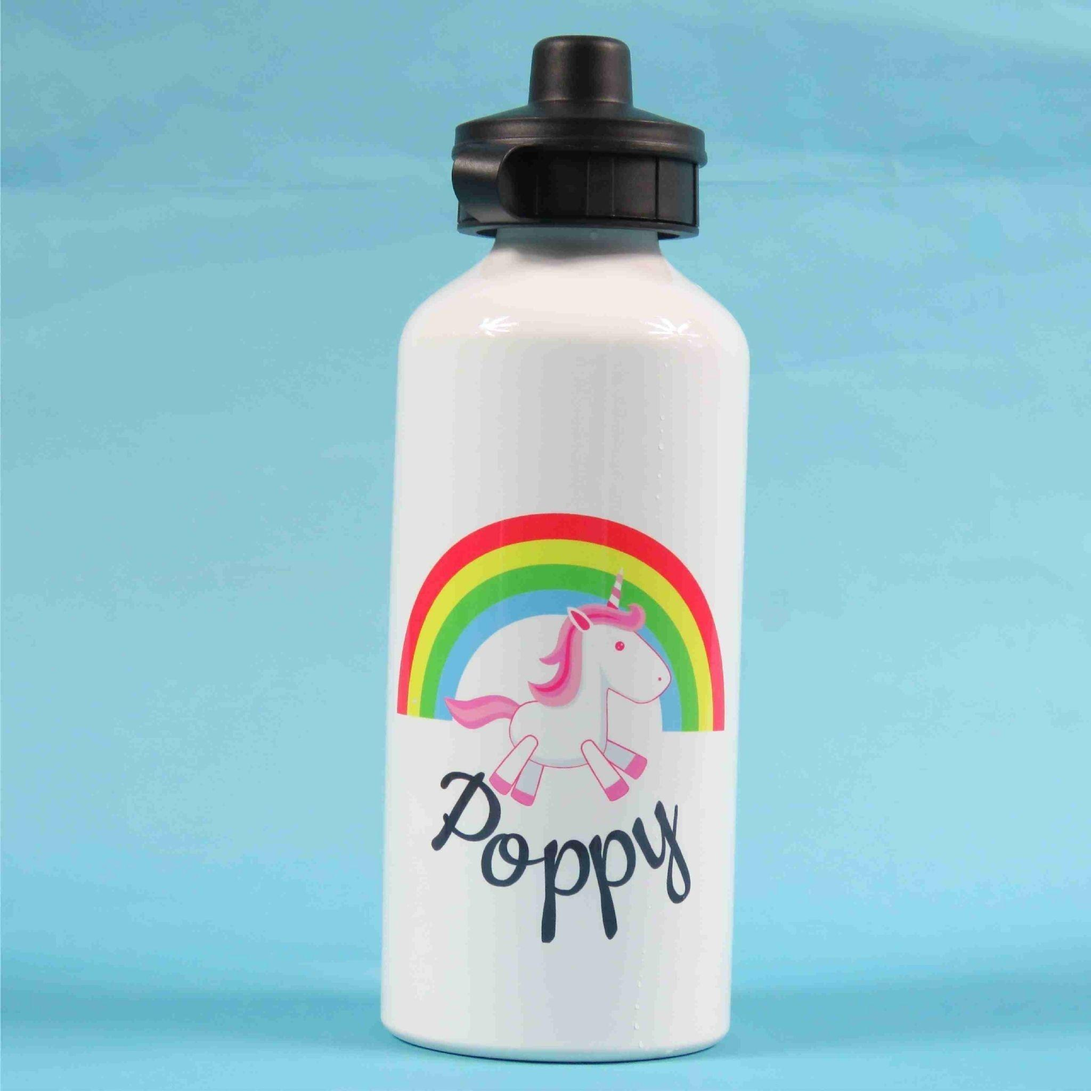gym bottle: (376, 24, 752, 1068)
